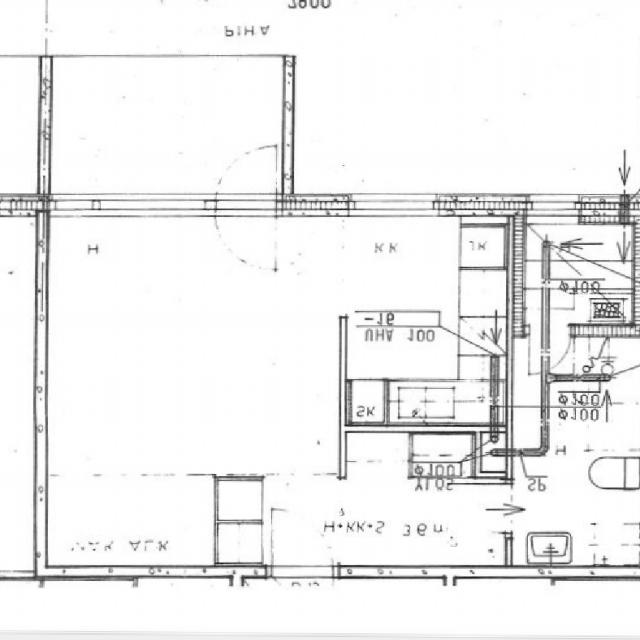door: (217, 138, 277, 214), (217, 195, 277, 271), (272, 509, 334, 578), (456, 484, 514, 532), (530, 325, 571, 376)
